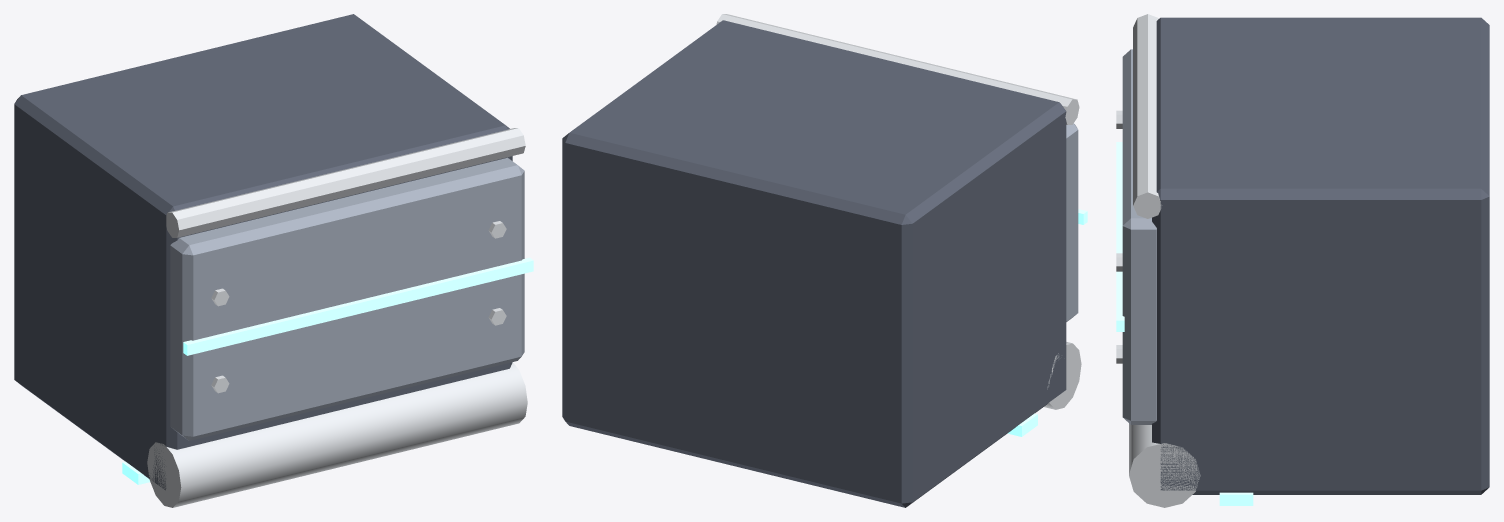
File: frame_top.glb
The picture shows the model from 3 angles, left to right: view 1: azimuth 30°, elevation 25°; view 2: azimuth 150°, elevation 25°; view 3: azimuth 270°, elevation 25°; orthographic projection. The views are drawn at different scales.
Parts seen in each view (by area): view 1: frame_top; view 2: frame_top; view 3: frame_top.
Part boxes in pixels (x1=…): frame_top: x1=14, y1=14, x2=533, y2=507; frame_top: x1=562, y1=14, x2=1087, y2=507; frame_top: x1=1116, y1=14, x2=1489, y2=507.
Bounding box in the file's own units: 1 × 0.825 × 0.885.
